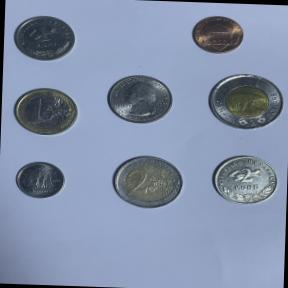1 Euro: (9, 85, 80, 139)
2 Euro: (108, 152, 188, 211)
Canda-10cent-: (11, 158, 68, 200)
Canda-2Dollar-: (203, 70, 286, 134)
Croatia-2Kune-: (207, 151, 282, 208)
US-1cent-: (189, 13, 247, 56)
US-25cent-: (104, 72, 175, 126)
